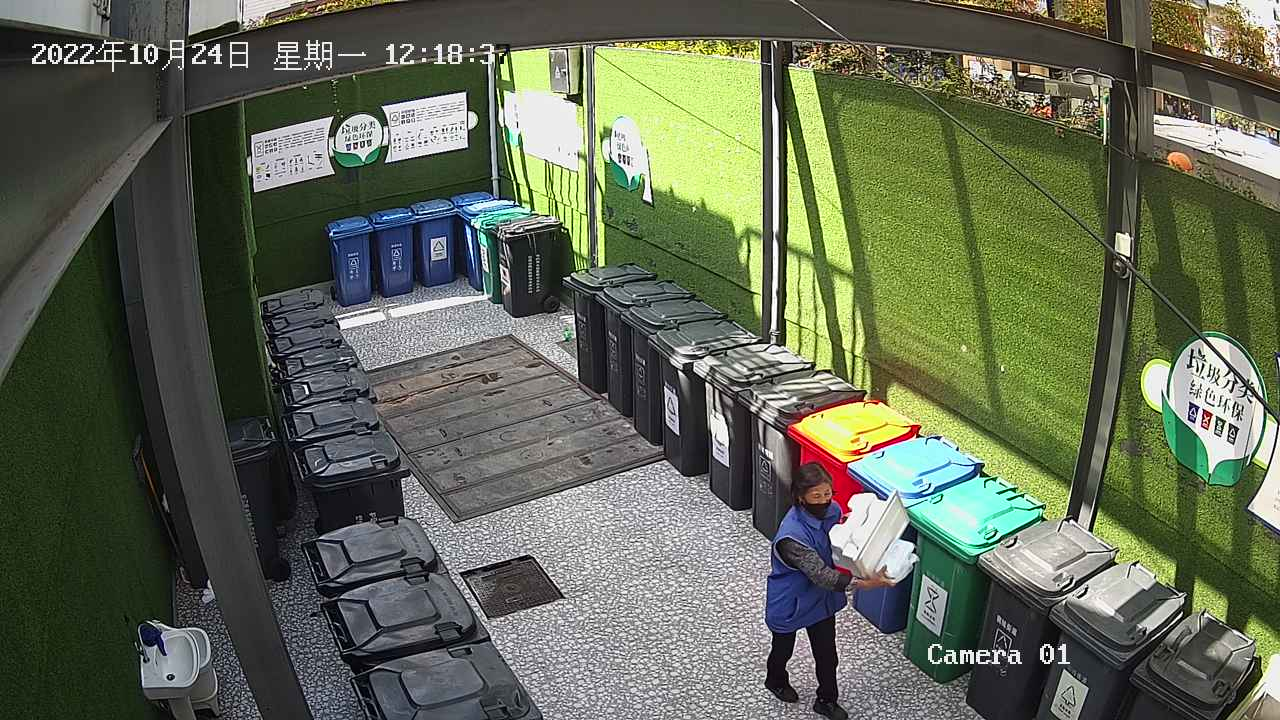paomozhipin: (824, 486, 925, 593)
worker: (759, 458, 898, 720)
